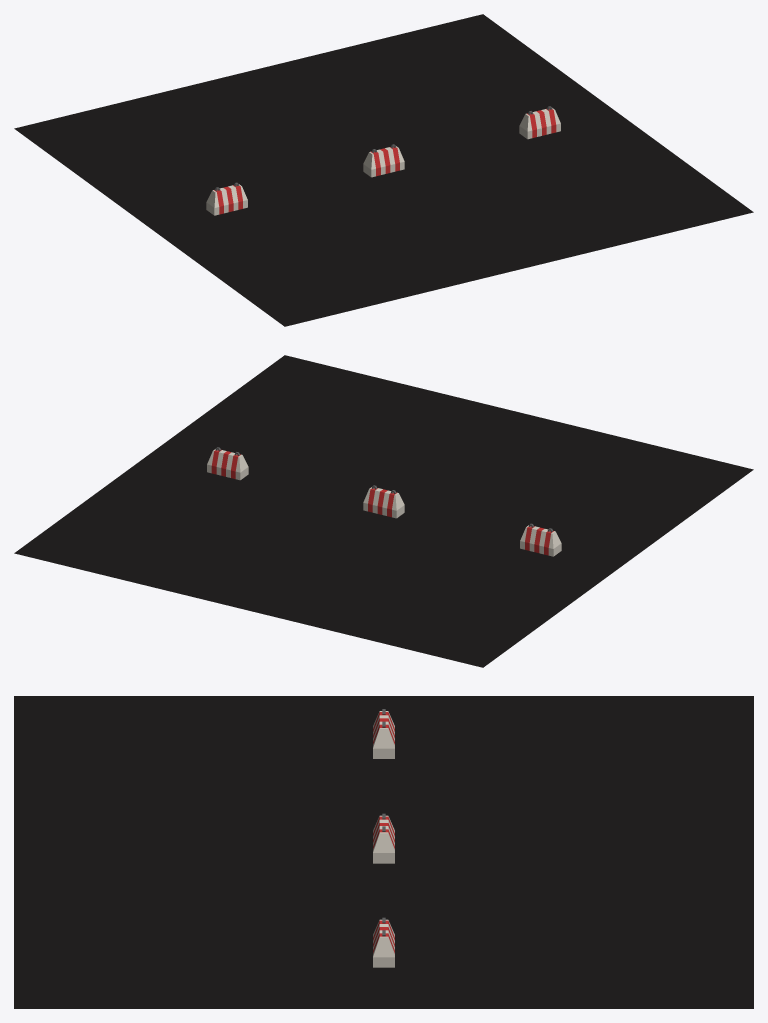
The model's file is Tile 15_Combined.fbx.
3 views of the same model, one above another, from view 1: azimuth 30°, elevation 25°; view 2: azimuth 150°, elevation 25°; view 3: azimuth 270°, elevation 25° (orthographic). The views are drawn at different scales.
Visible parts, largest first — view 1: MeshBaker_seg_0_ring_0_mesh_mesh; view 2: MeshBaker_seg_0_ring_0_mesh_mesh; view 3: MeshBaker_seg_0_ring_0_mesh_mesh.
Part boxes in pixels (box(x1,y1,x2,y2)): MeshBaker_seg_0_ring_0_mesh_mesh: box(14, 14, 753, 326); MeshBaker_seg_0_ring_0_mesh_mesh: box(14, 355, 753, 667); MeshBaker_seg_0_ring_0_mesh_mesh: box(14, 696, 753, 1008).
Size of the model in its own units: 3000 by 142 by 3000.
